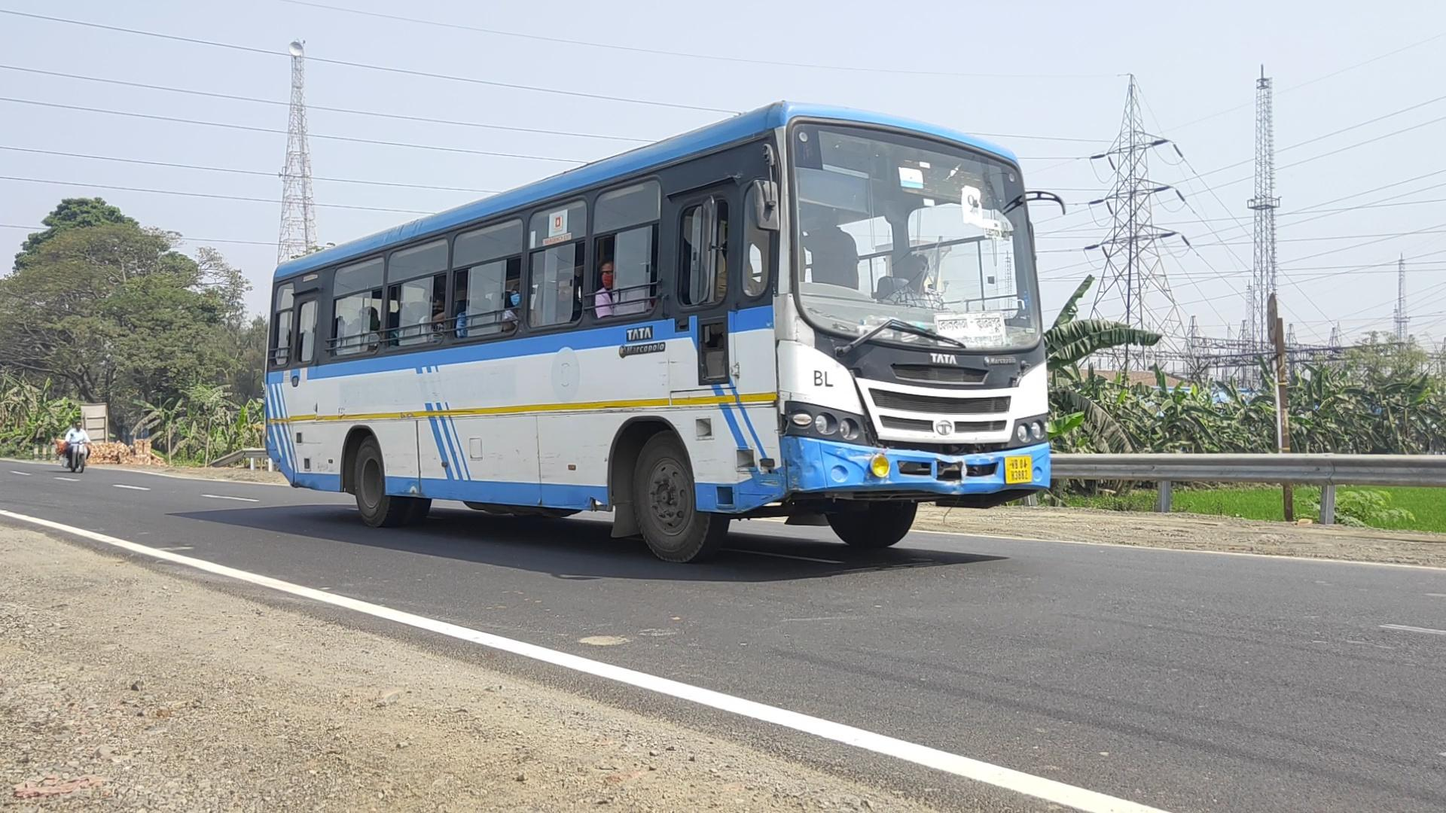Bus: (263, 103, 1051, 562)
bike: (59, 422, 91, 473)
